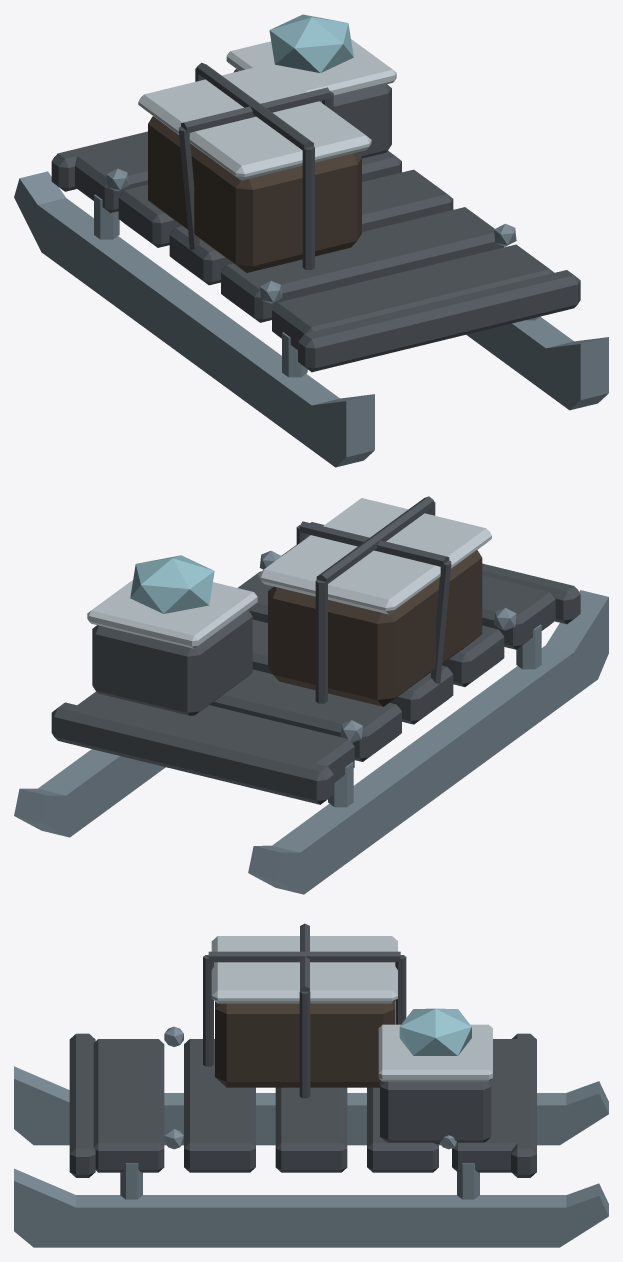
File: wastes_supply_sled.glb
3 renders of one model, top to bottom at view 1: azimuth 30°, elevation 25°; view 2: azimuth 150°, elevation 25°; view 3: azimuth 270°, elevation 25°, orthographic. The views are drawn at different scales.
Parts seen in each view (by area): view 1: wastes_supply_sled; view 2: wastes_supply_sled; view 3: wastes_supply_sled.
Boxes of the visible parts, <box> form: wastes_supply_sled: <box>14,14,608,467</box>; wastes_supply_sled: <box>14,496,608,894</box>; wastes_supply_sled: <box>14,923,608,1247</box>.
Bounding box in the file's own units: 0.87 × 0.717 × 1.82.
